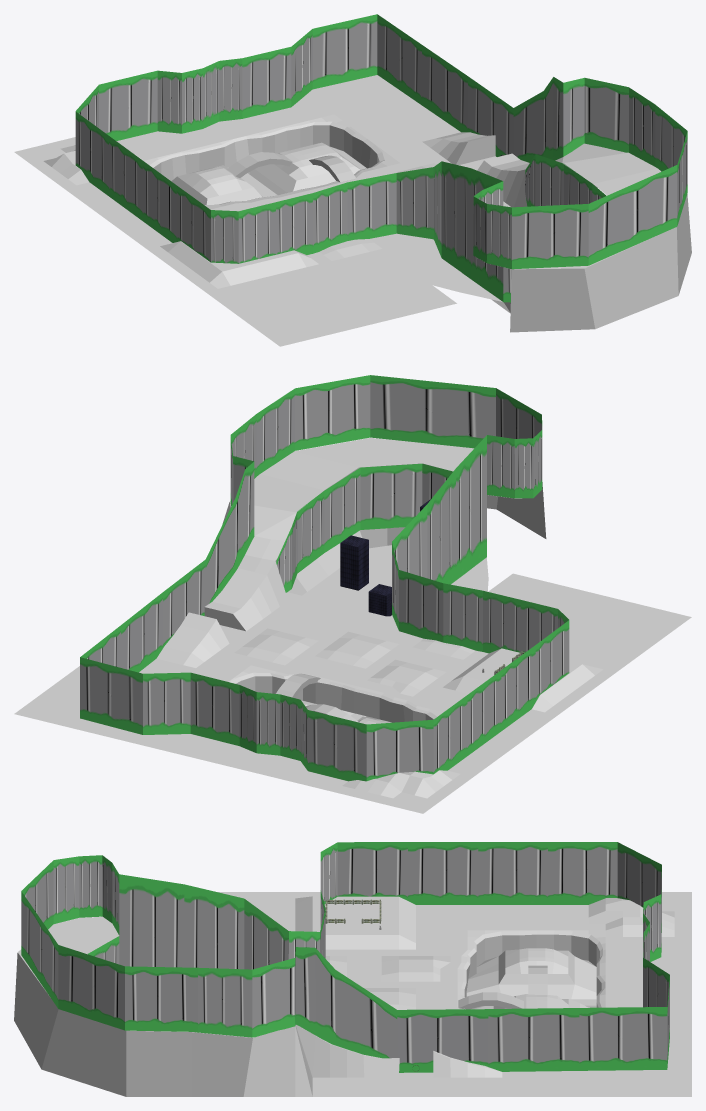
Rendered from level_test.fbx.
3 renders of one model, top to bottom at view 1: azimuth 30°, elevation 25°; view 2: azimuth 150°, elevation 25°; view 3: azimuth 270°, elevation 25°, orthographic. The views are drawn at different scales.
Visible parts, largest first — view 1: Plane.007, Plane.006, Cube, Cube.004; view 2: Plane.007, Plane.006, Cube.003; view 3: Plane.007, Plane.006, Cube.004, Cube, Cube.002.
Boxes of the visible parts, x1,y1,x2,y2 form: Plane.007: (75,14,687,302); Plane.006: (14,75,691,346); Cube: (226,152,292,177); Cube.004: (309,155,355,182); Plane.007: (80,375,569,781); Plane.006: (14,437,691,813); Cube.003: (340,499,430,616); Plane.007: (21,842,669,1072); Plane.006: (14,892,691,1096); Cube.004: (458,992,523,1009); Cube: (528,965,547,994); Cube.002: (325,899,381,923).
Size of the model in its own units: 54327 by 18993 by 75940.
